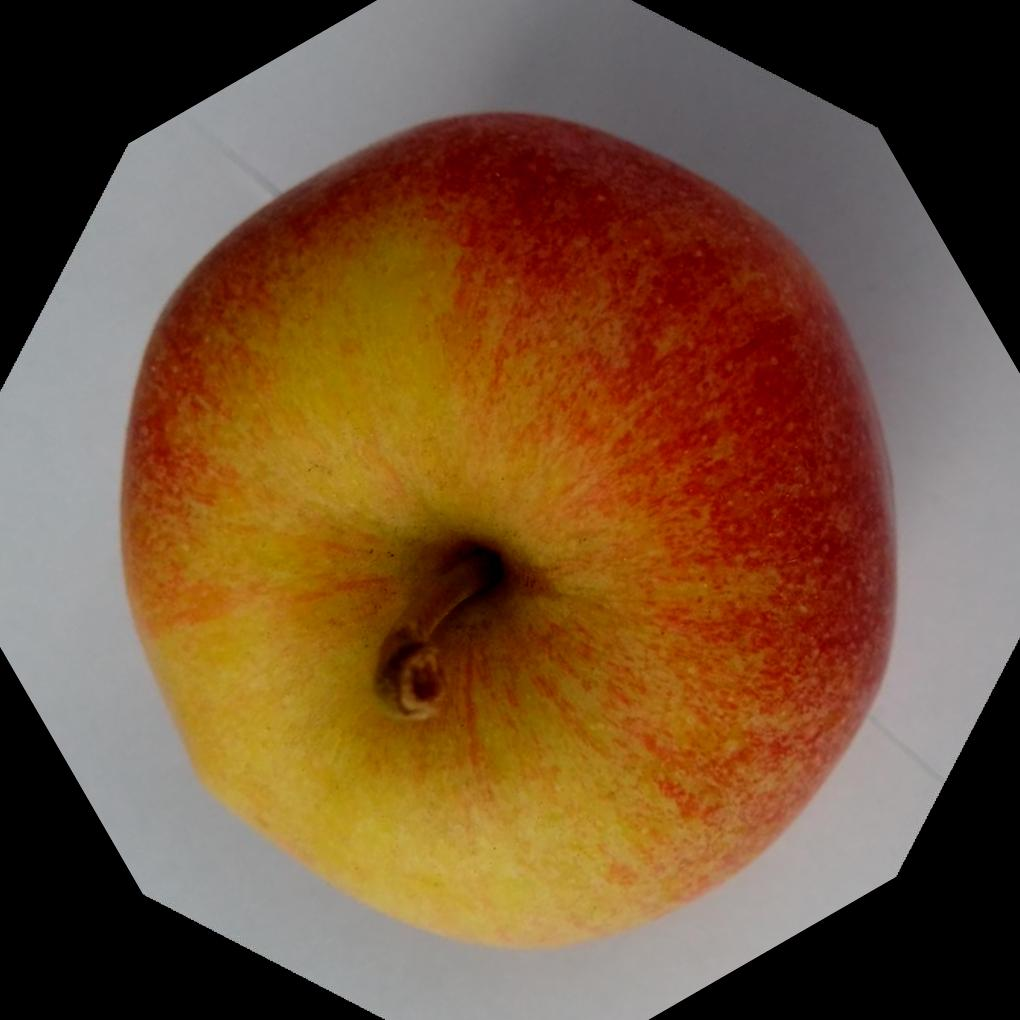FreshGuava: (118, 105, 901, 949)
